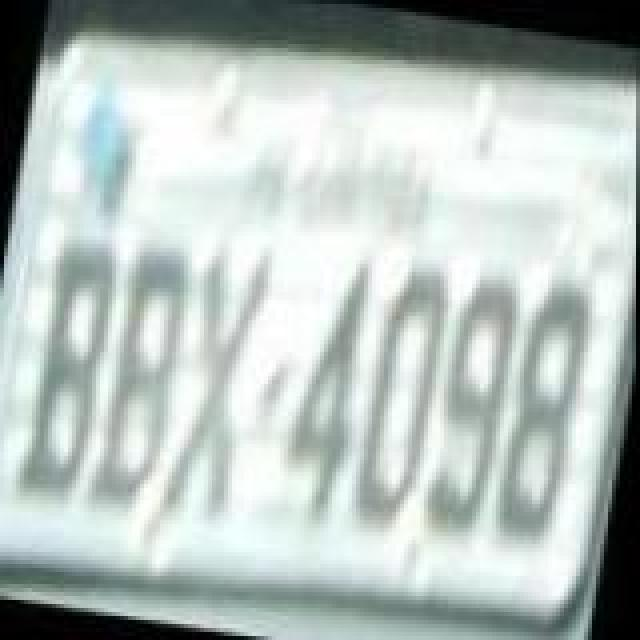4: (272, 248, 388, 536)
8: (490, 268, 602, 548)
9: (418, 266, 530, 546)
B: (82, 236, 194, 520), (10, 230, 122, 506)
O: (348, 254, 456, 538)
X: (160, 234, 276, 526)
